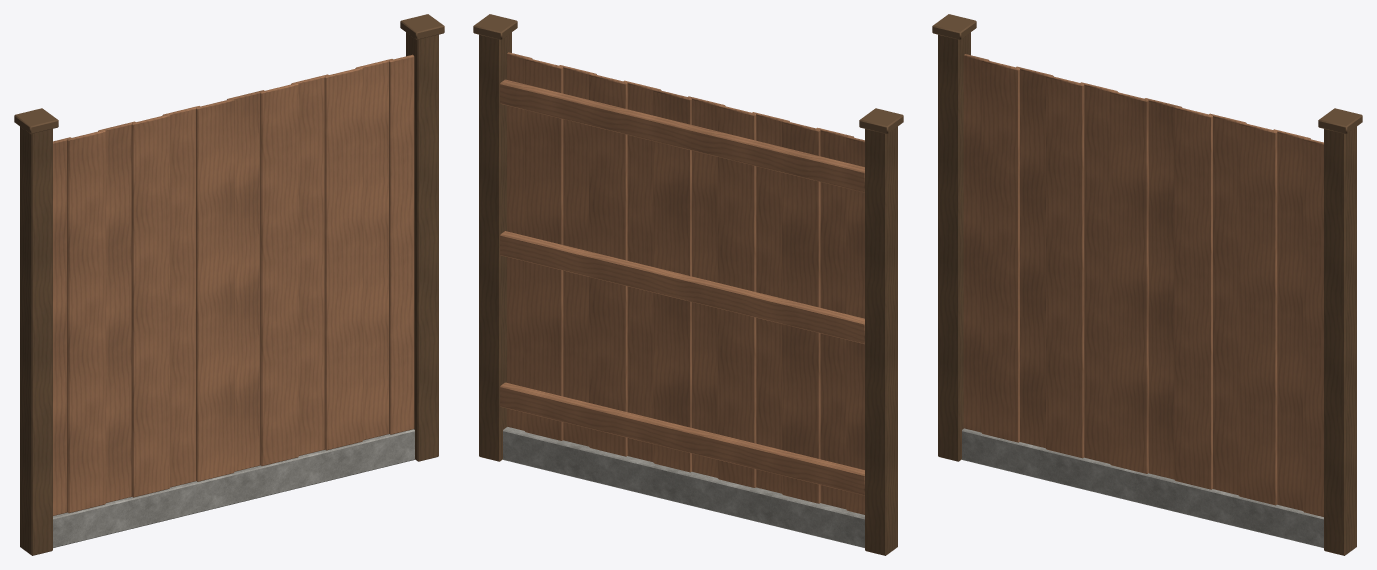
File: fence.glb
3 views of the same model, side by side, from view 1: azimuth 30°, elevation 25°; view 2: azimuth 150°, elevation 25°; view 3: azimuth 330°, elevation 25° (orthographic).
Parts seen in each view (by area): view 1: fence; view 2: fence; view 3: fence.
Boxes of the visible parts, left/top/right/bottom form: fence: left=14, top=14, right=444, bottom=555; fence: left=473, top=14, right=903, bottom=555; fence: left=932, top=14, right=1362, bottom=555.
Bounding box in the file's own units: 8.6 × 8.56 × 0.6.
Materials: 3 (3 with a texture image).
